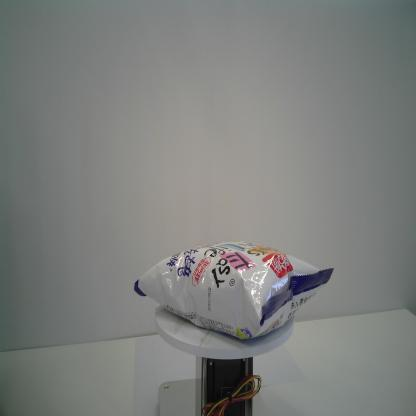Puffed Food: (133, 240, 334, 341)
